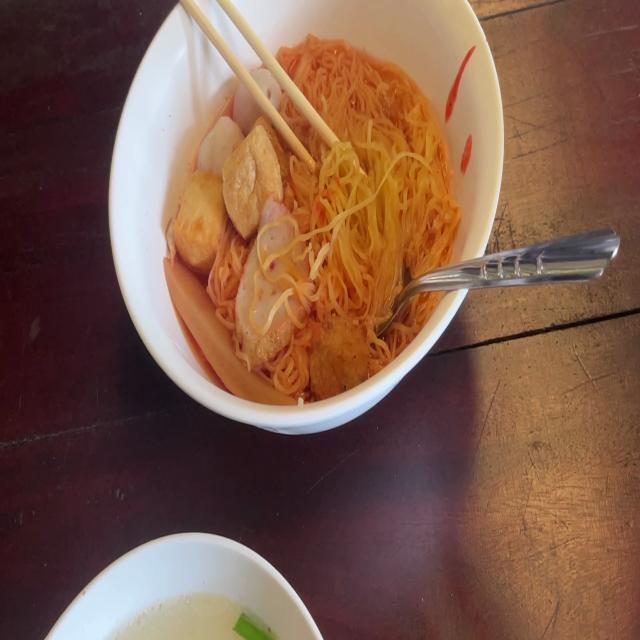crunchy_squid: (155, 253, 295, 413)
egg_noodles: (294, 53, 449, 323)
fish_ball: (197, 113, 243, 186), (231, 66, 279, 134)
fried_fish_balls: (235, 197, 308, 358)
fried_tofu: (223, 119, 288, 228)
noodle: (170, 41, 436, 387)
tofu: (178, 170, 226, 268)
